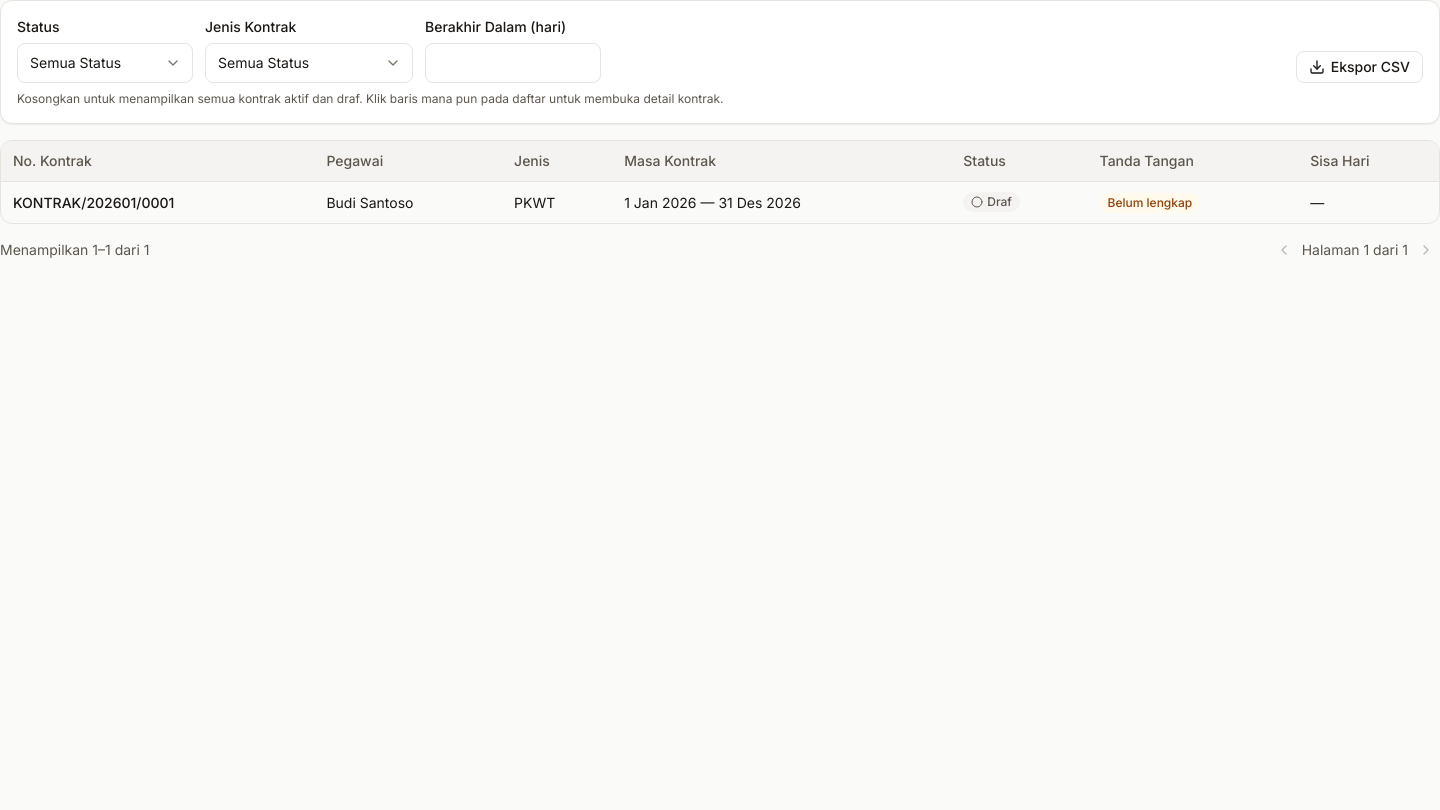
Scenario: ContractsPanel › opens the contract detail on a row click, with the fields the list drops
Click the text "KONTRAK/202601/0001" at (94, 202), box [13, 194, 174, 210]
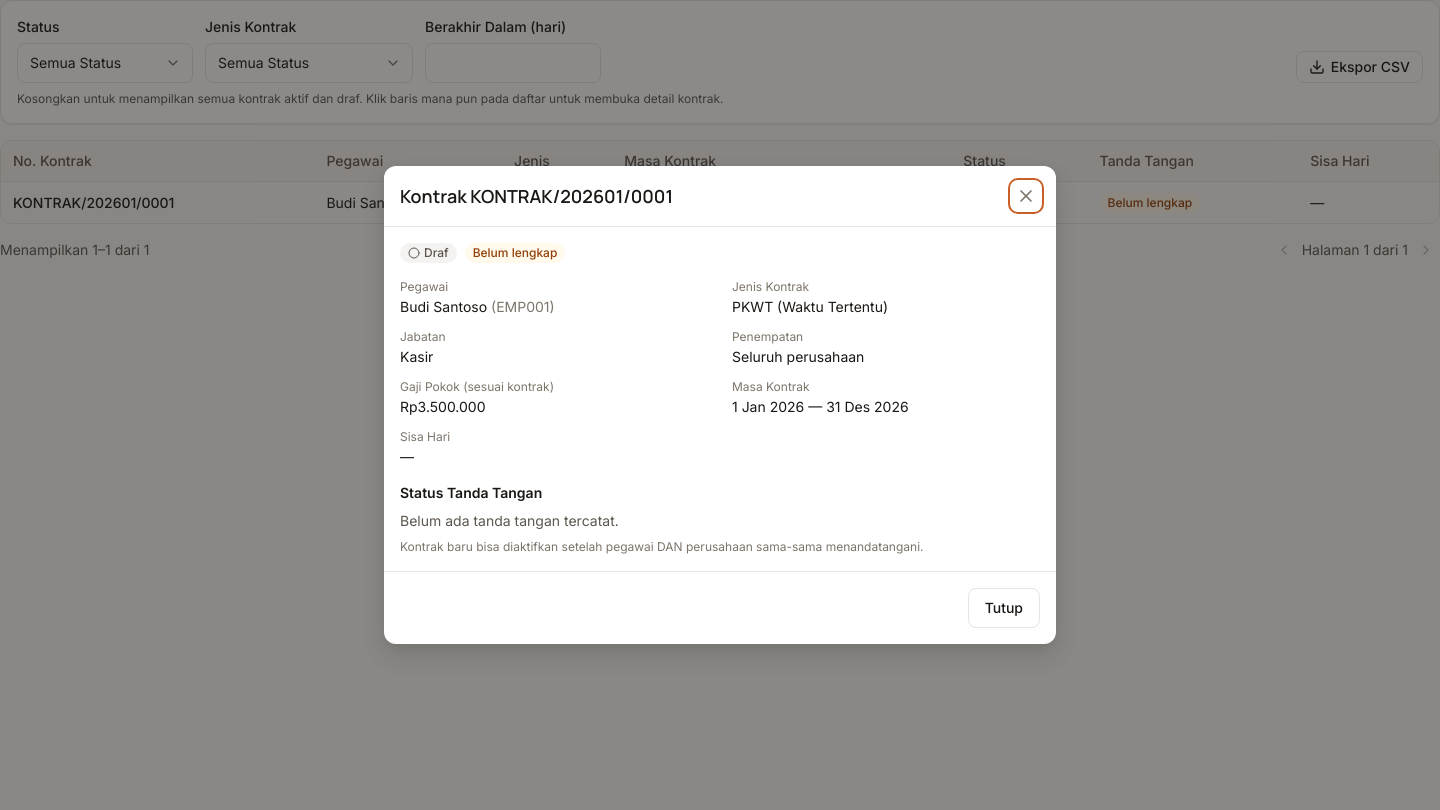
expect the heading "Kontrak KONTRAK/202601/0001" is shown: met, box [400, 182, 673, 210]
expect the text "Kasir" is shown: met, box [400, 348, 433, 365]
expect the text "Rp3.500.000" is shown: met, box [400, 398, 486, 415]
